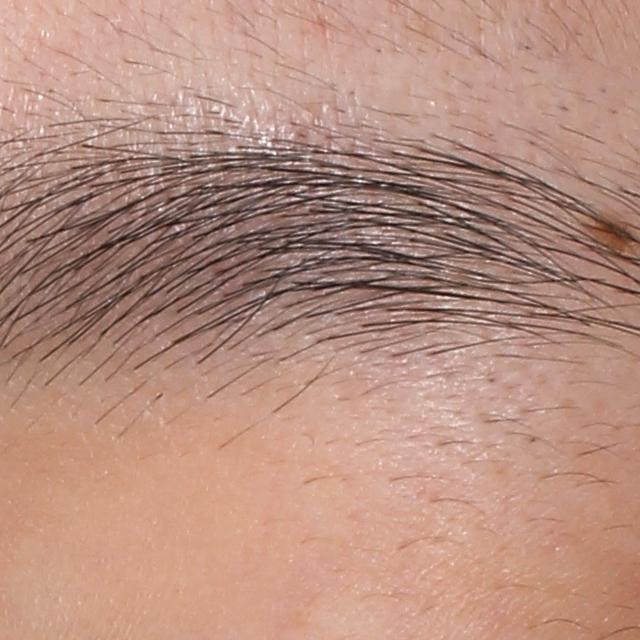nevus: (598, 213, 629, 250)
